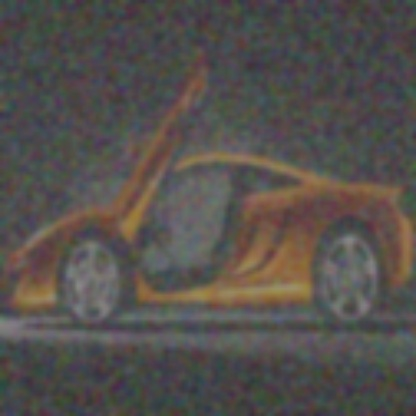Vehicle: (2, 41, 416, 335)
